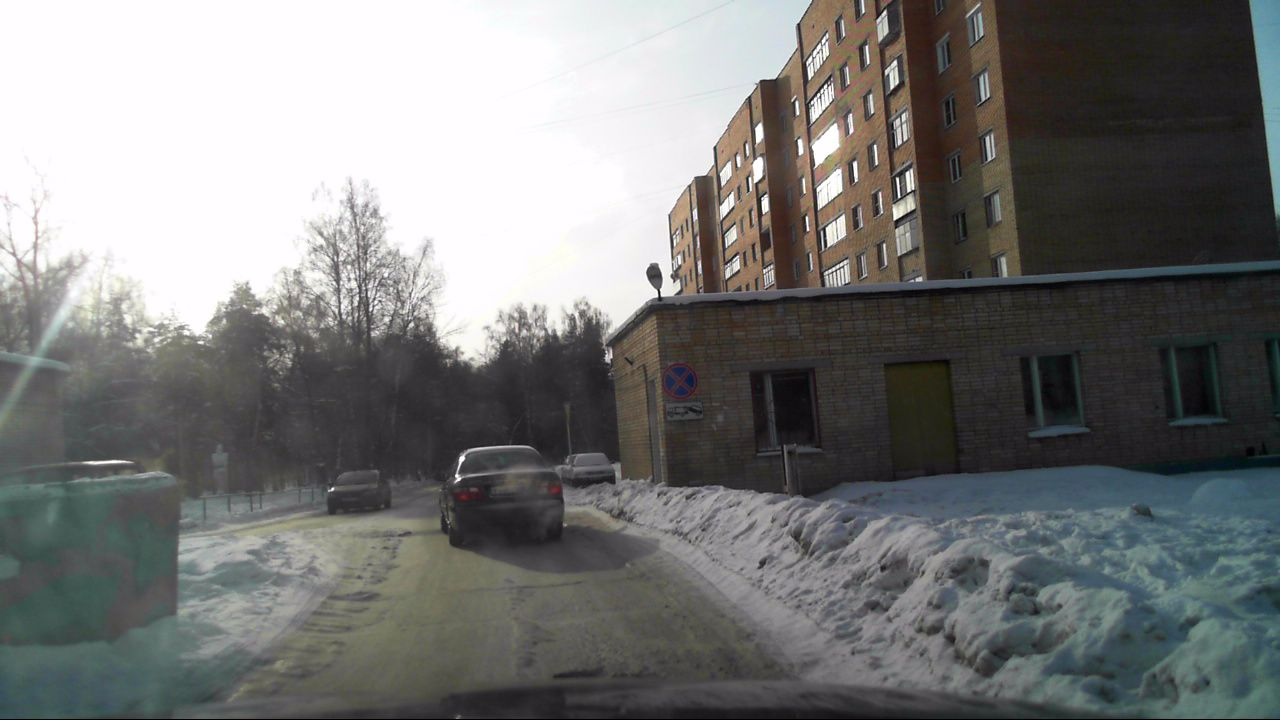No Parking: (662, 363, 698, 399)
